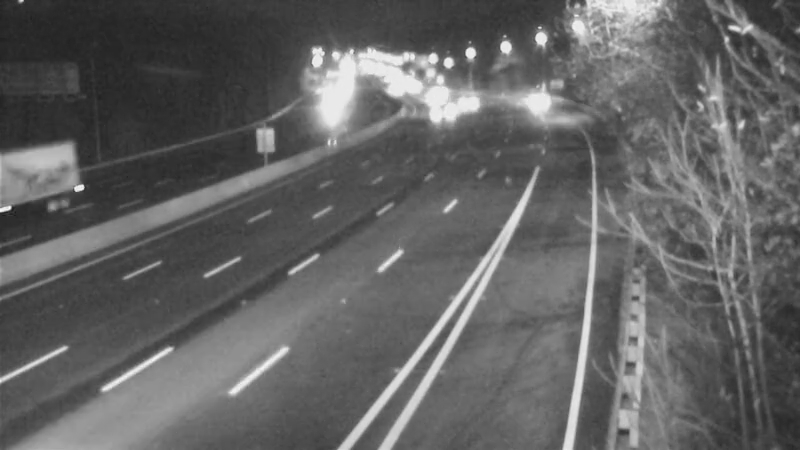vehicle: (1, 161, 68, 241), (509, 73, 559, 123), (409, 71, 459, 121), (438, 75, 488, 125), (403, 89, 453, 139)
